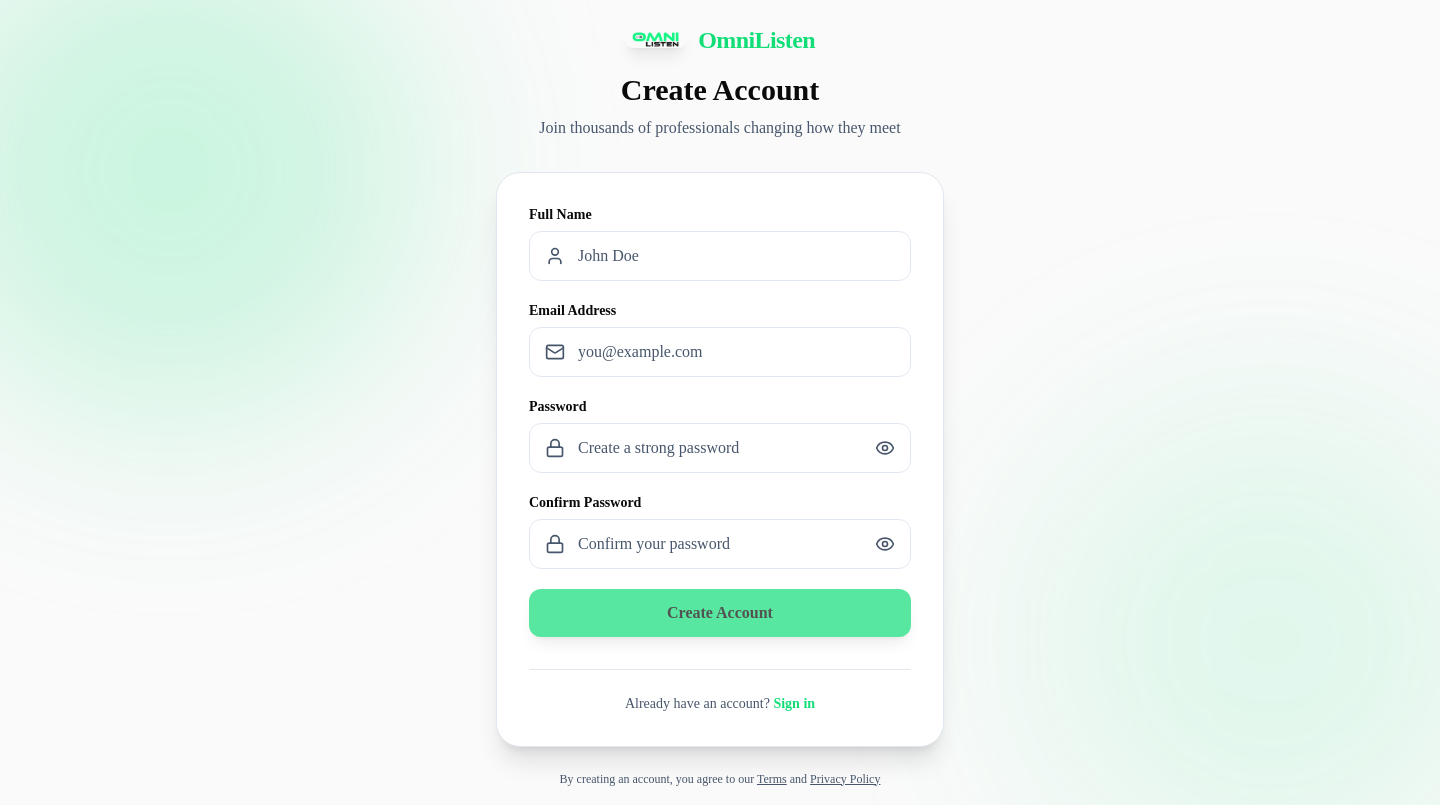
Test case: SignUpPage — email verification gate › shows check-email state when email_verified is false
The width and height of the screenshot is (1440, 805).
Type "Test User" into the field with placeholder "John Doe" at (720, 256), box [529,230,911,280]
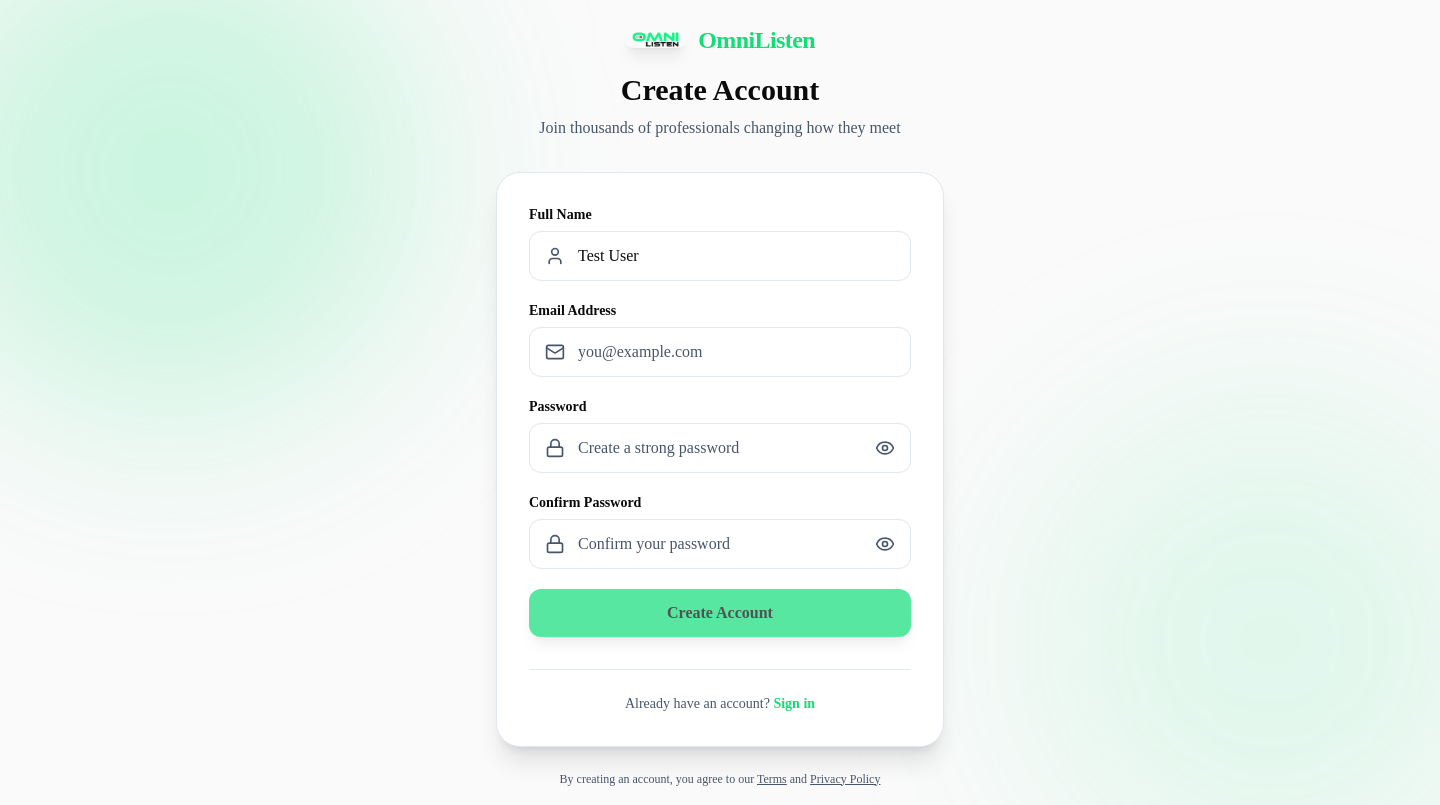
Type "test@example.com" into the field with placeholder "you@example.com" at (720, 352), box [529,326,911,376]
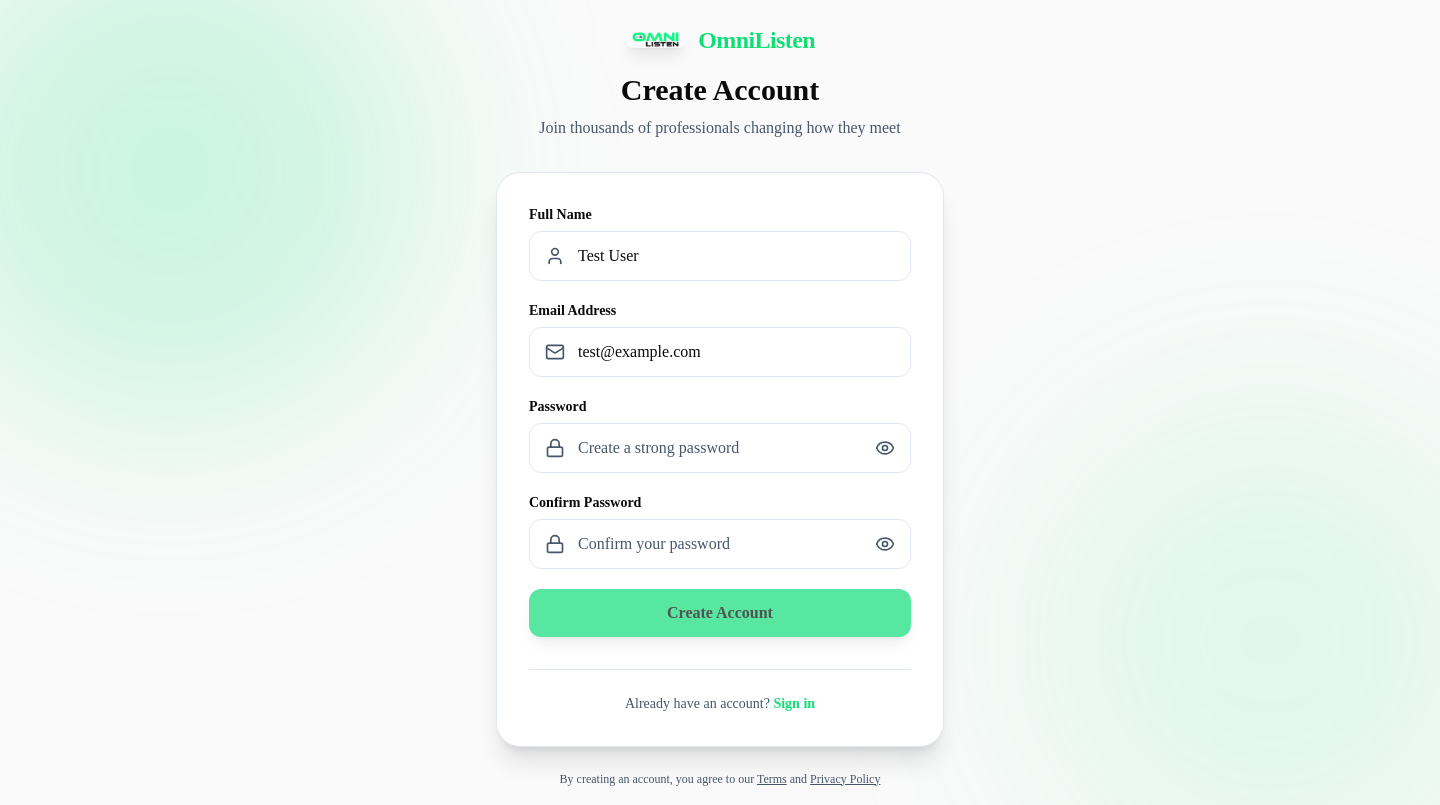
Type "Password1" into the password field with placeholder "Create a strong password" at (720, 448), box [529,422,911,472]
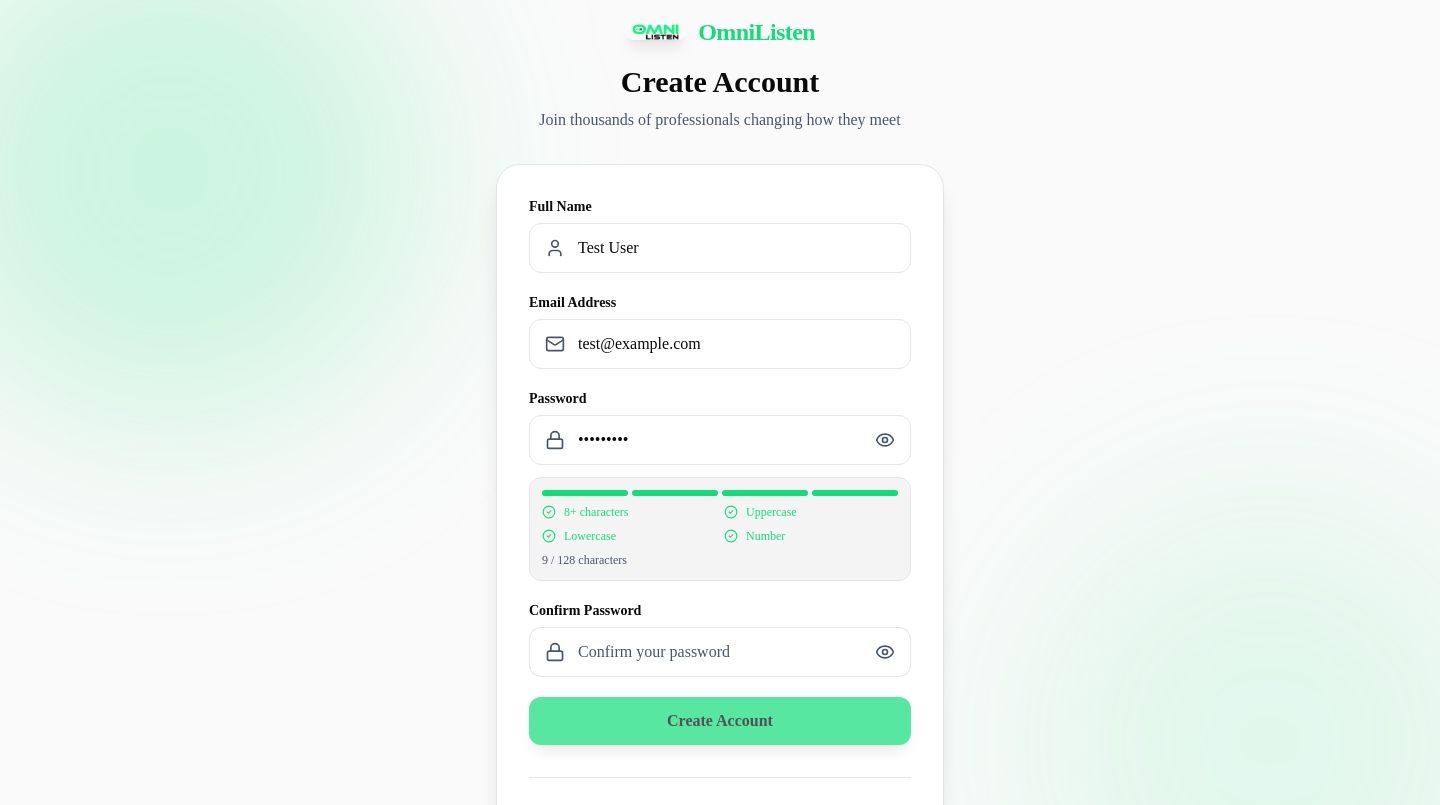
Type "Password1" into the password field with placeholder "Confirm your password" at (720, 652), box [529,627,911,677]
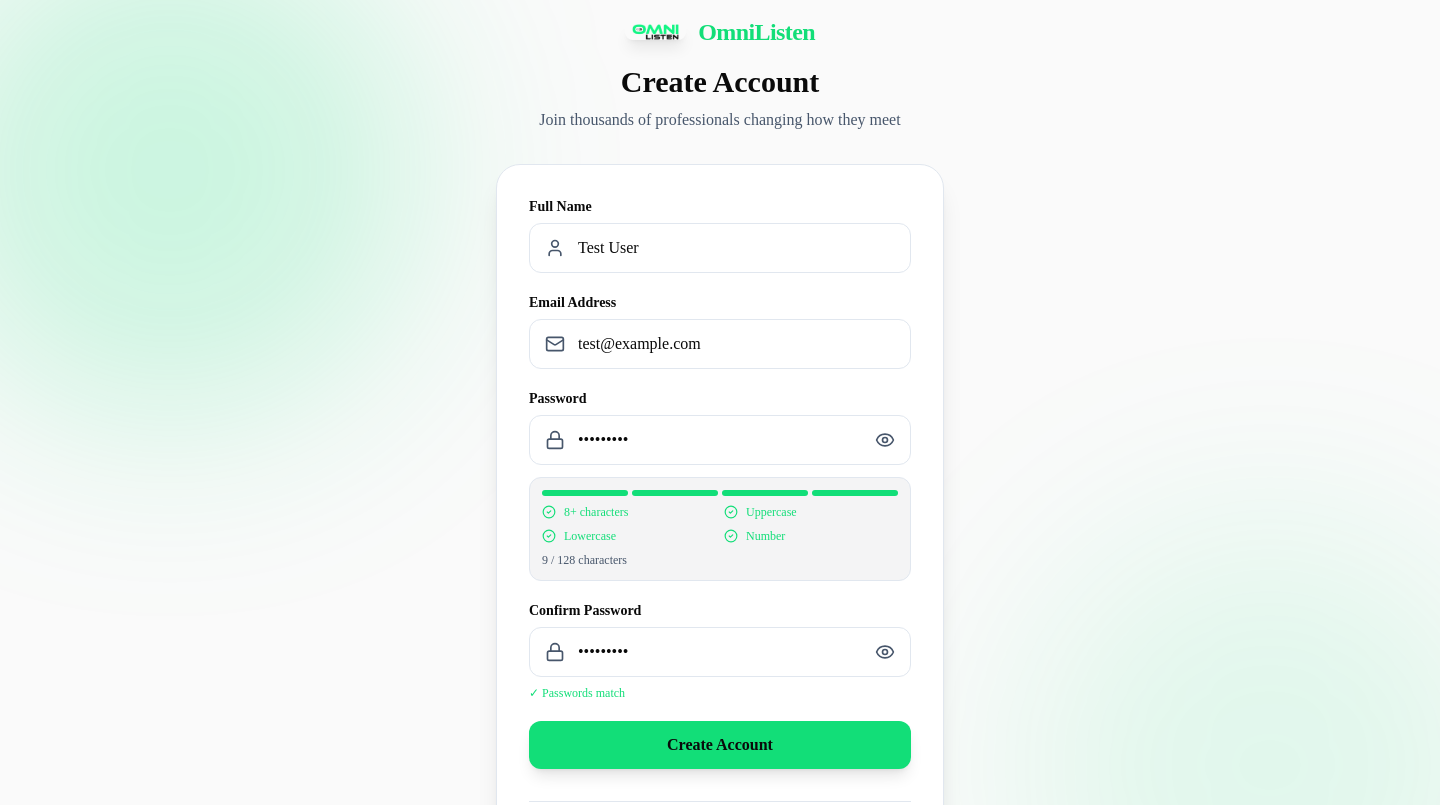
Click the button "Create Account" at (720, 745), box [529,721,911,769]
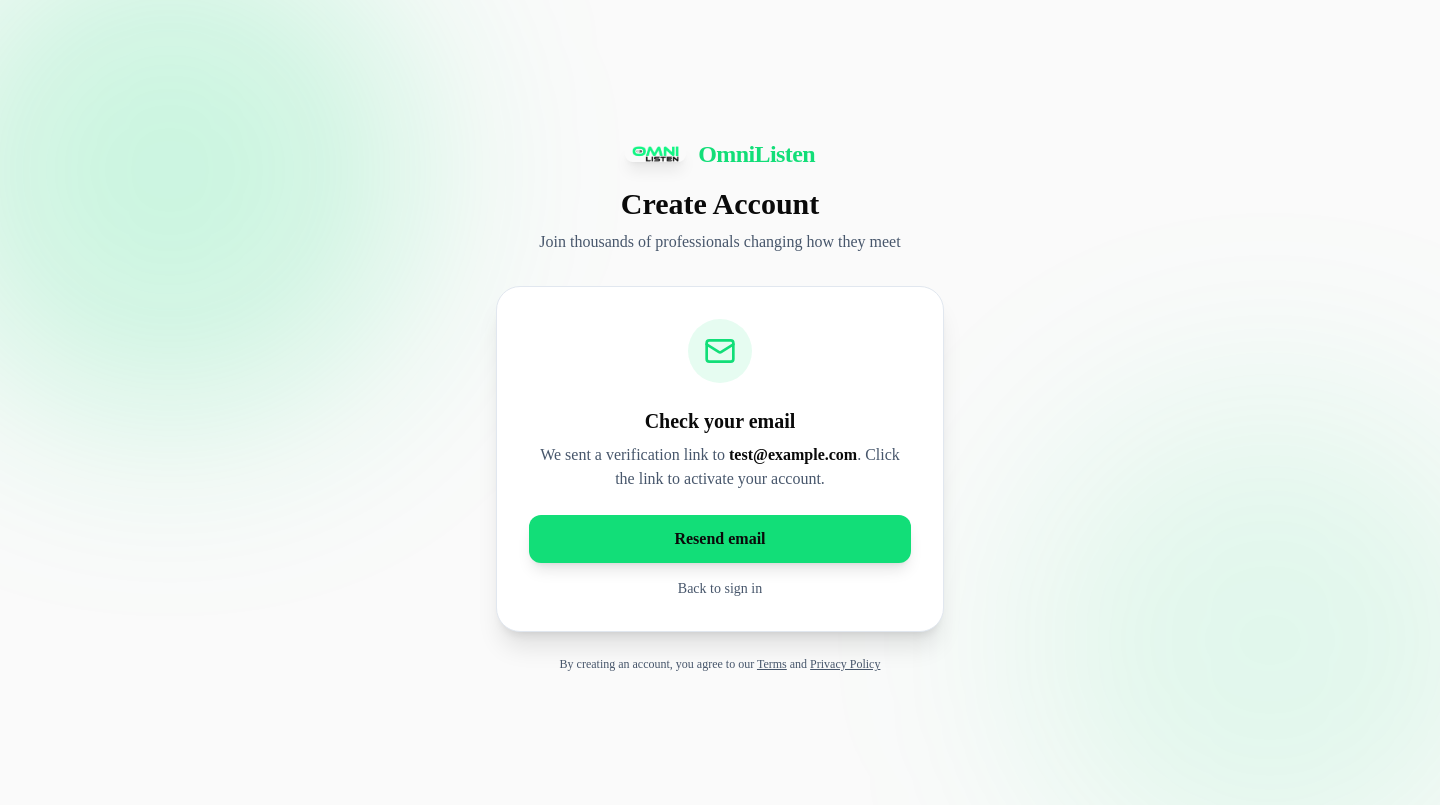
Check: the heading "Check your email" is shown, box [645,410,795,432]
